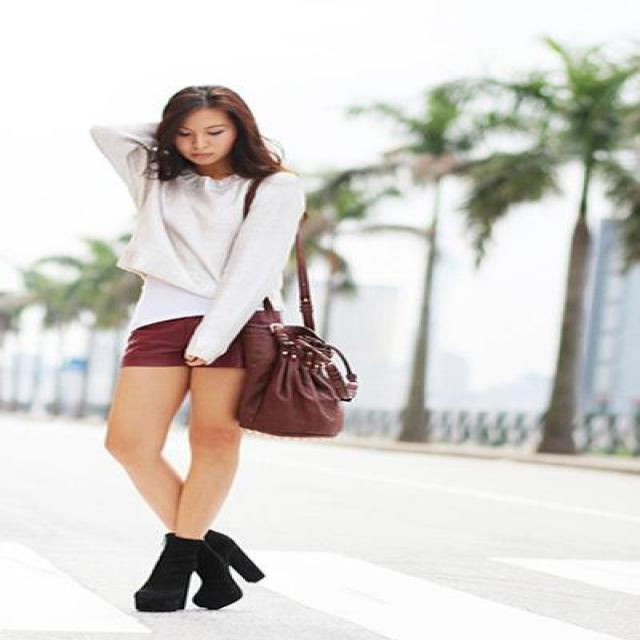bag: (232, 179, 357, 436)
jacket: (90, 122, 310, 364)
shoe: (134, 530, 264, 611)
shorts: (123, 296, 296, 378)
